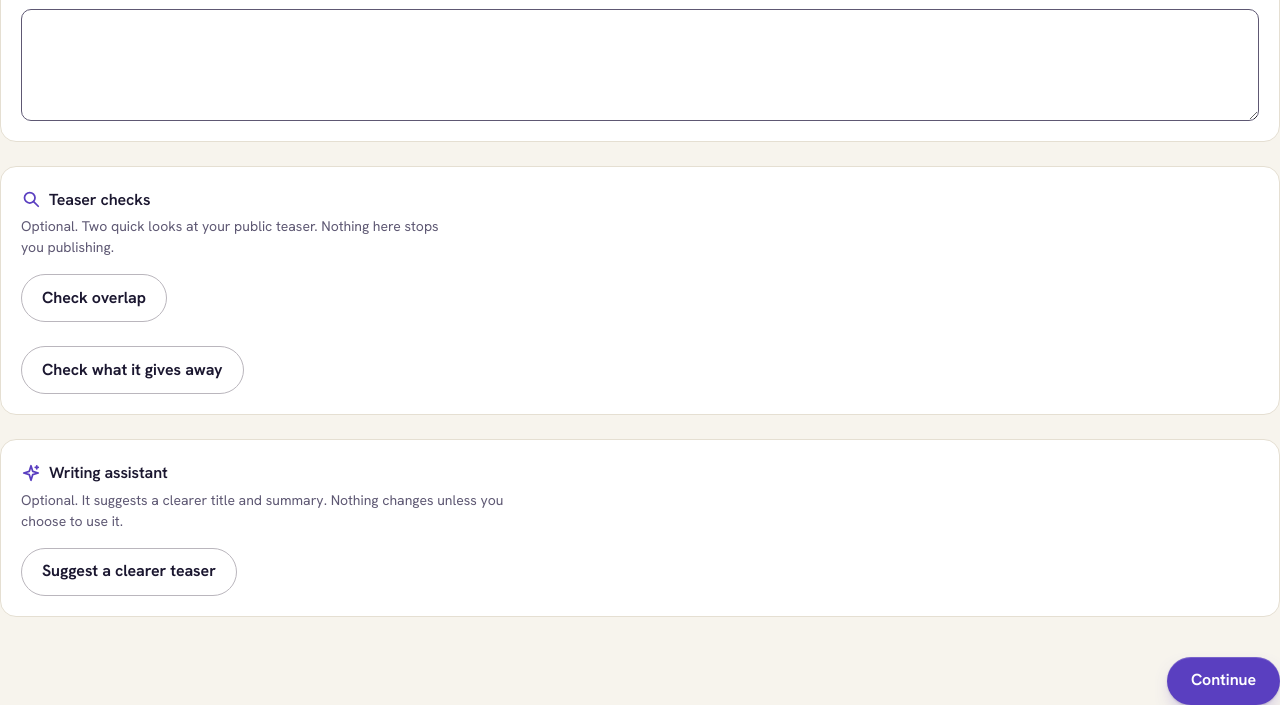
Test: check what it gives away › names the fields in words and gives the fixed advice for the rules' answer (never the API's words)
(page scrolled)
Click the button "Check what it gives away" at (132,370), box [21,346,244,394]
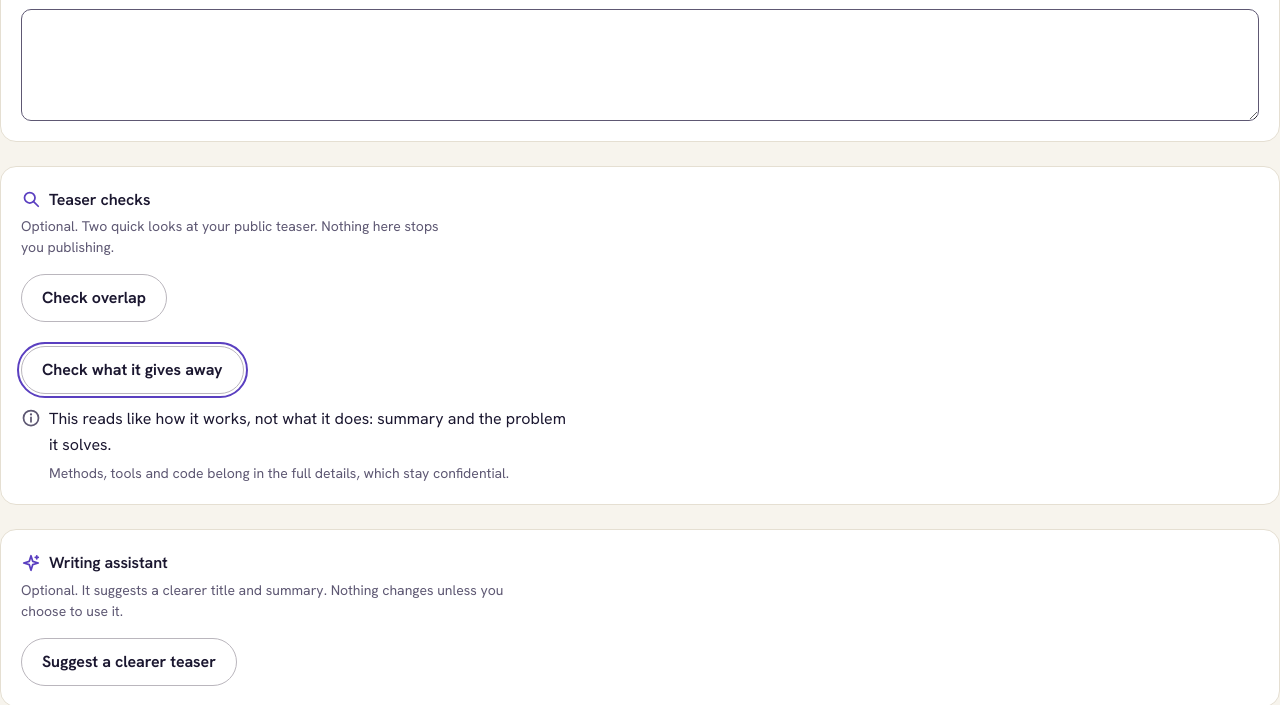
Result: the text "This reads like how it works, not what it does: summary and the problem it solves." is shown at [49,408,566,455]
